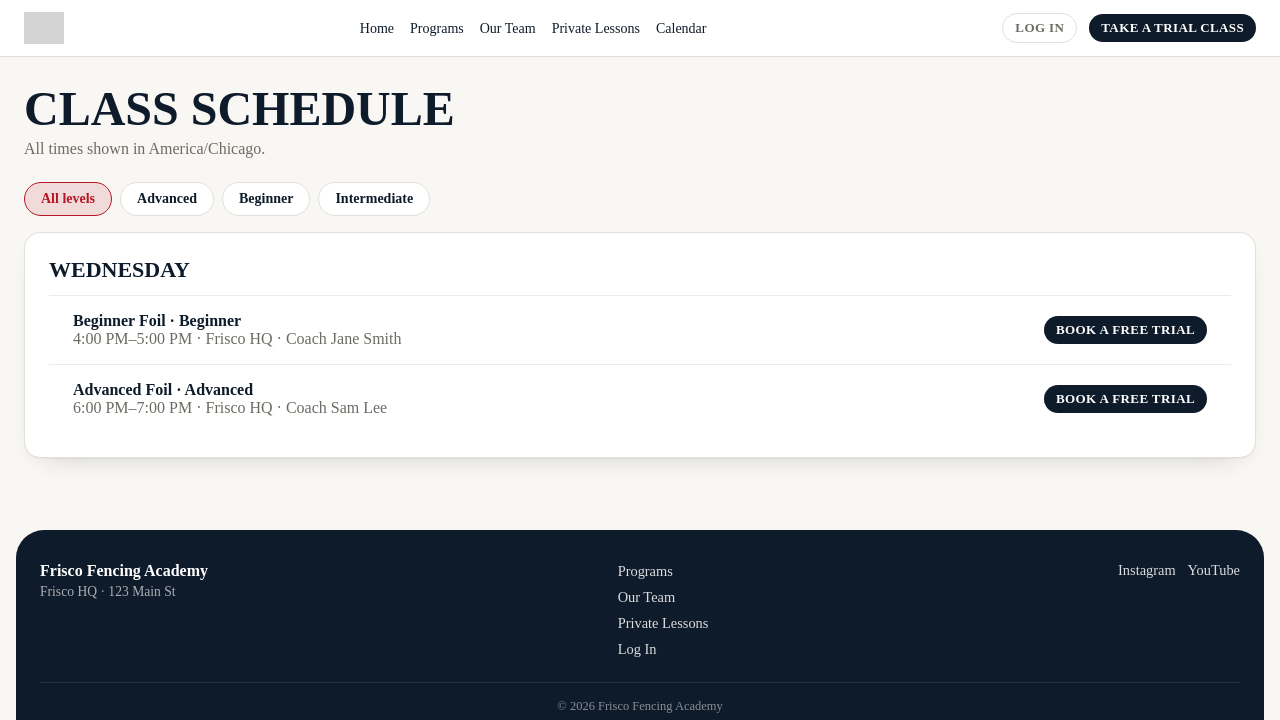
ClassesPage › level filter (source-of-truth audit finding B4) › filters the list by level via the pill row, updating aria-checked
Expected: the text "Beginner Foil · Beginner" is shown, [73,312,241,329]
Expected: the text "Advanced Foil · Advanced" is shown, [73,381,253,398]
Click the radio button labelled "Beginner". click: coordinates (266, 199)
box: [222,182,310,216]
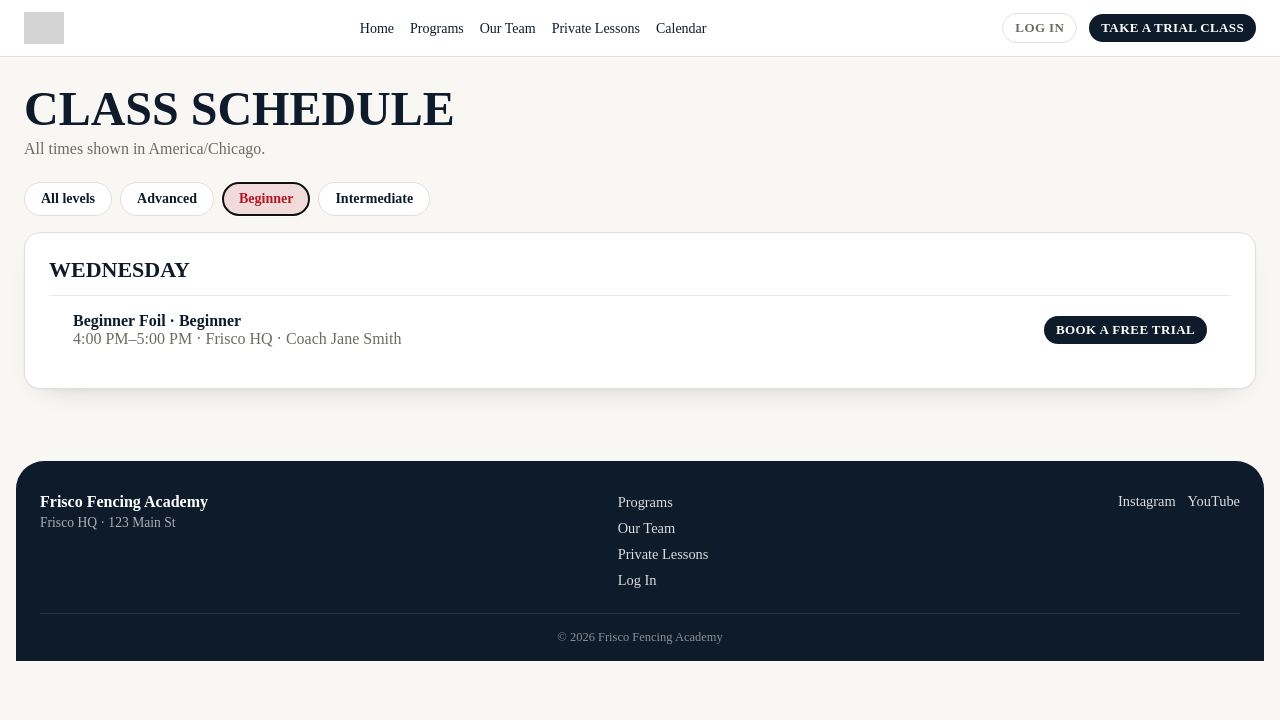
Expected: the text "Beginner Foil · Beginner" is shown, [73,312,241,329]
Now the text "Advanced Foil · Advanced" is gone
